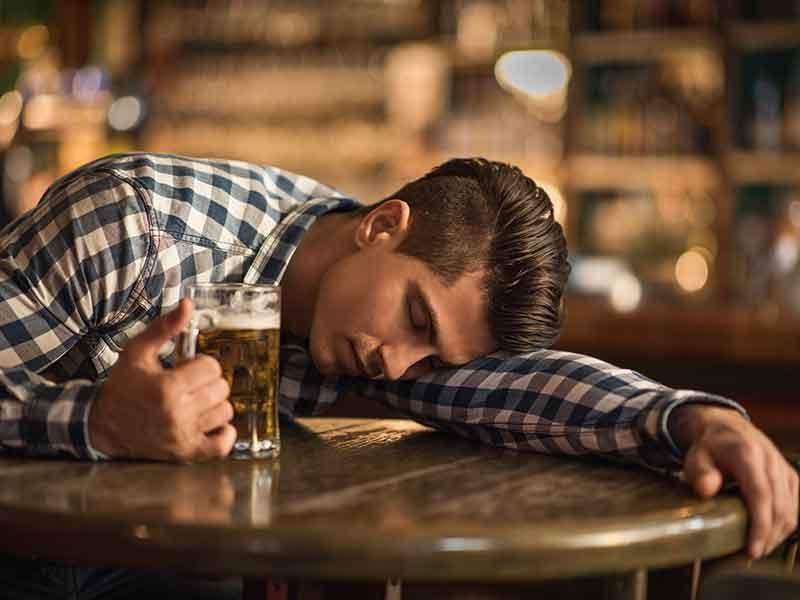Drunk: (312, 252, 491, 384)
